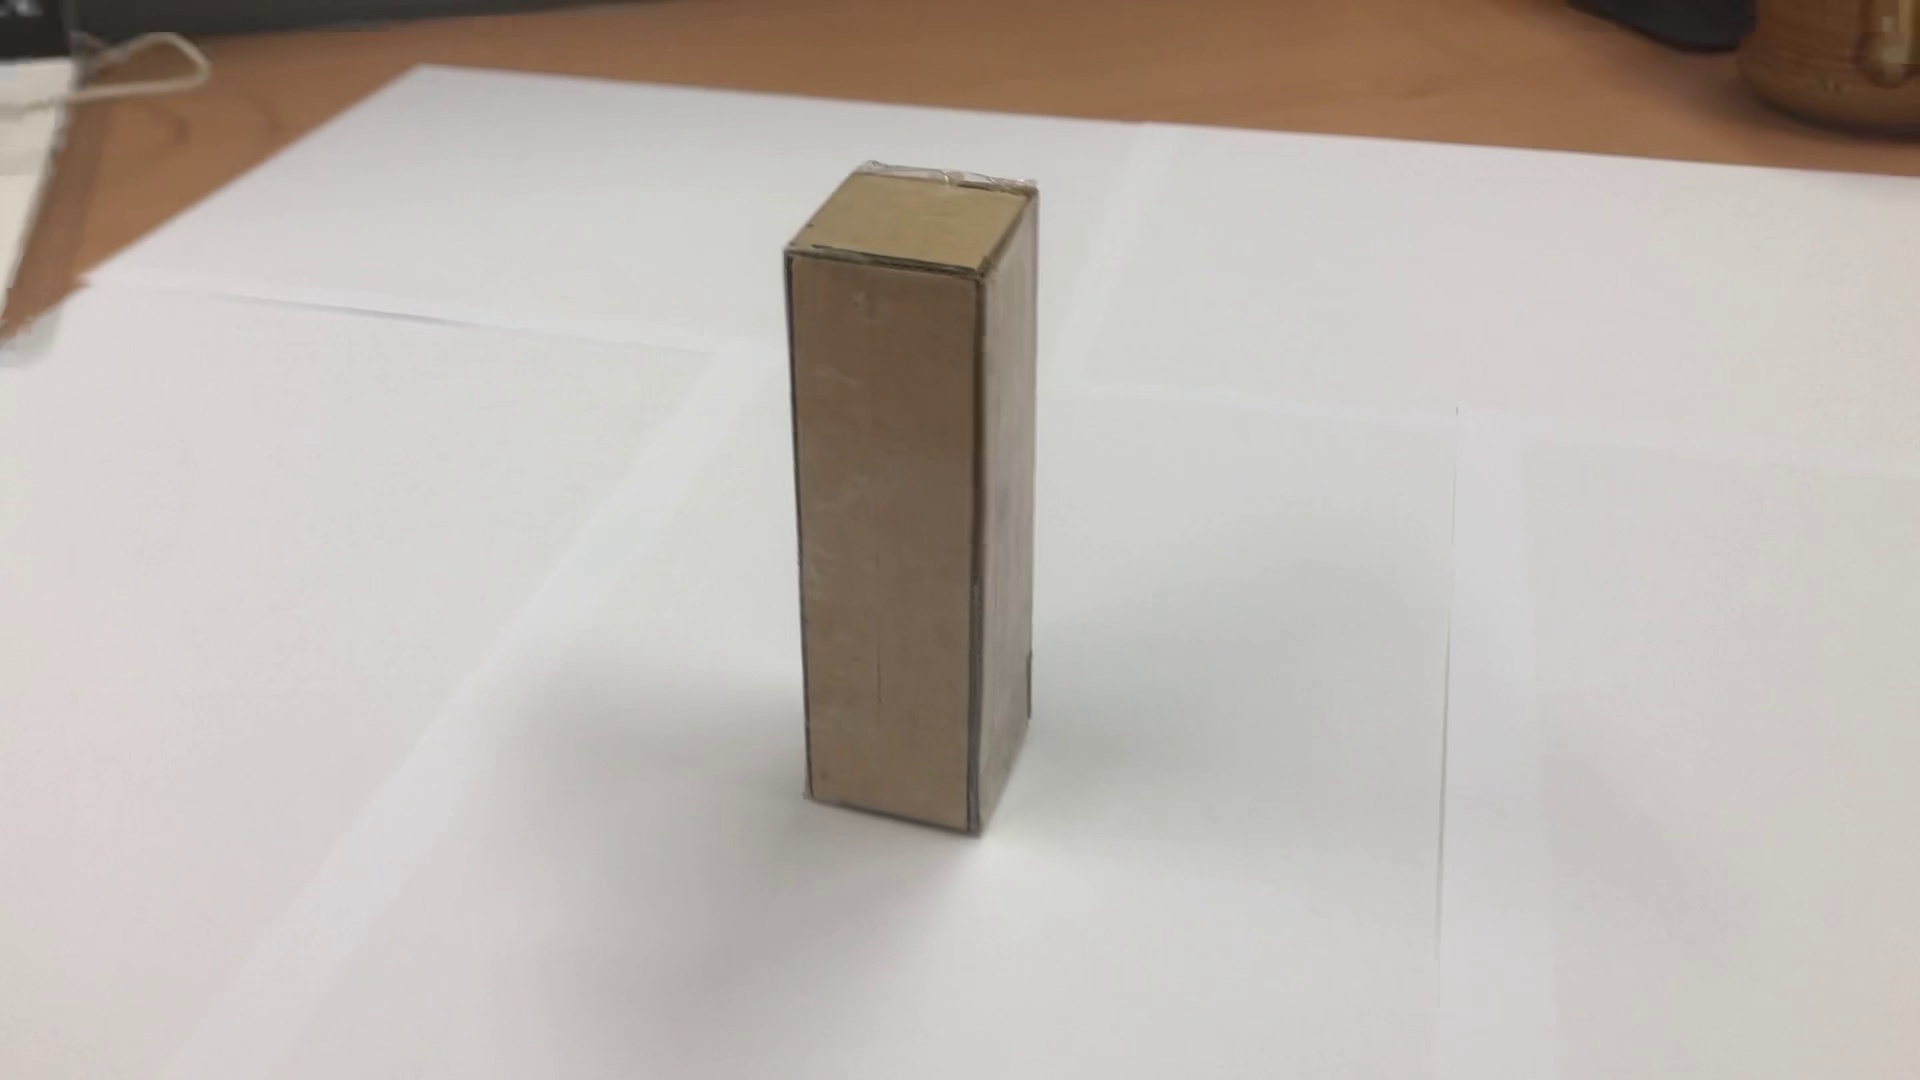box: (760, 148, 1080, 860)
